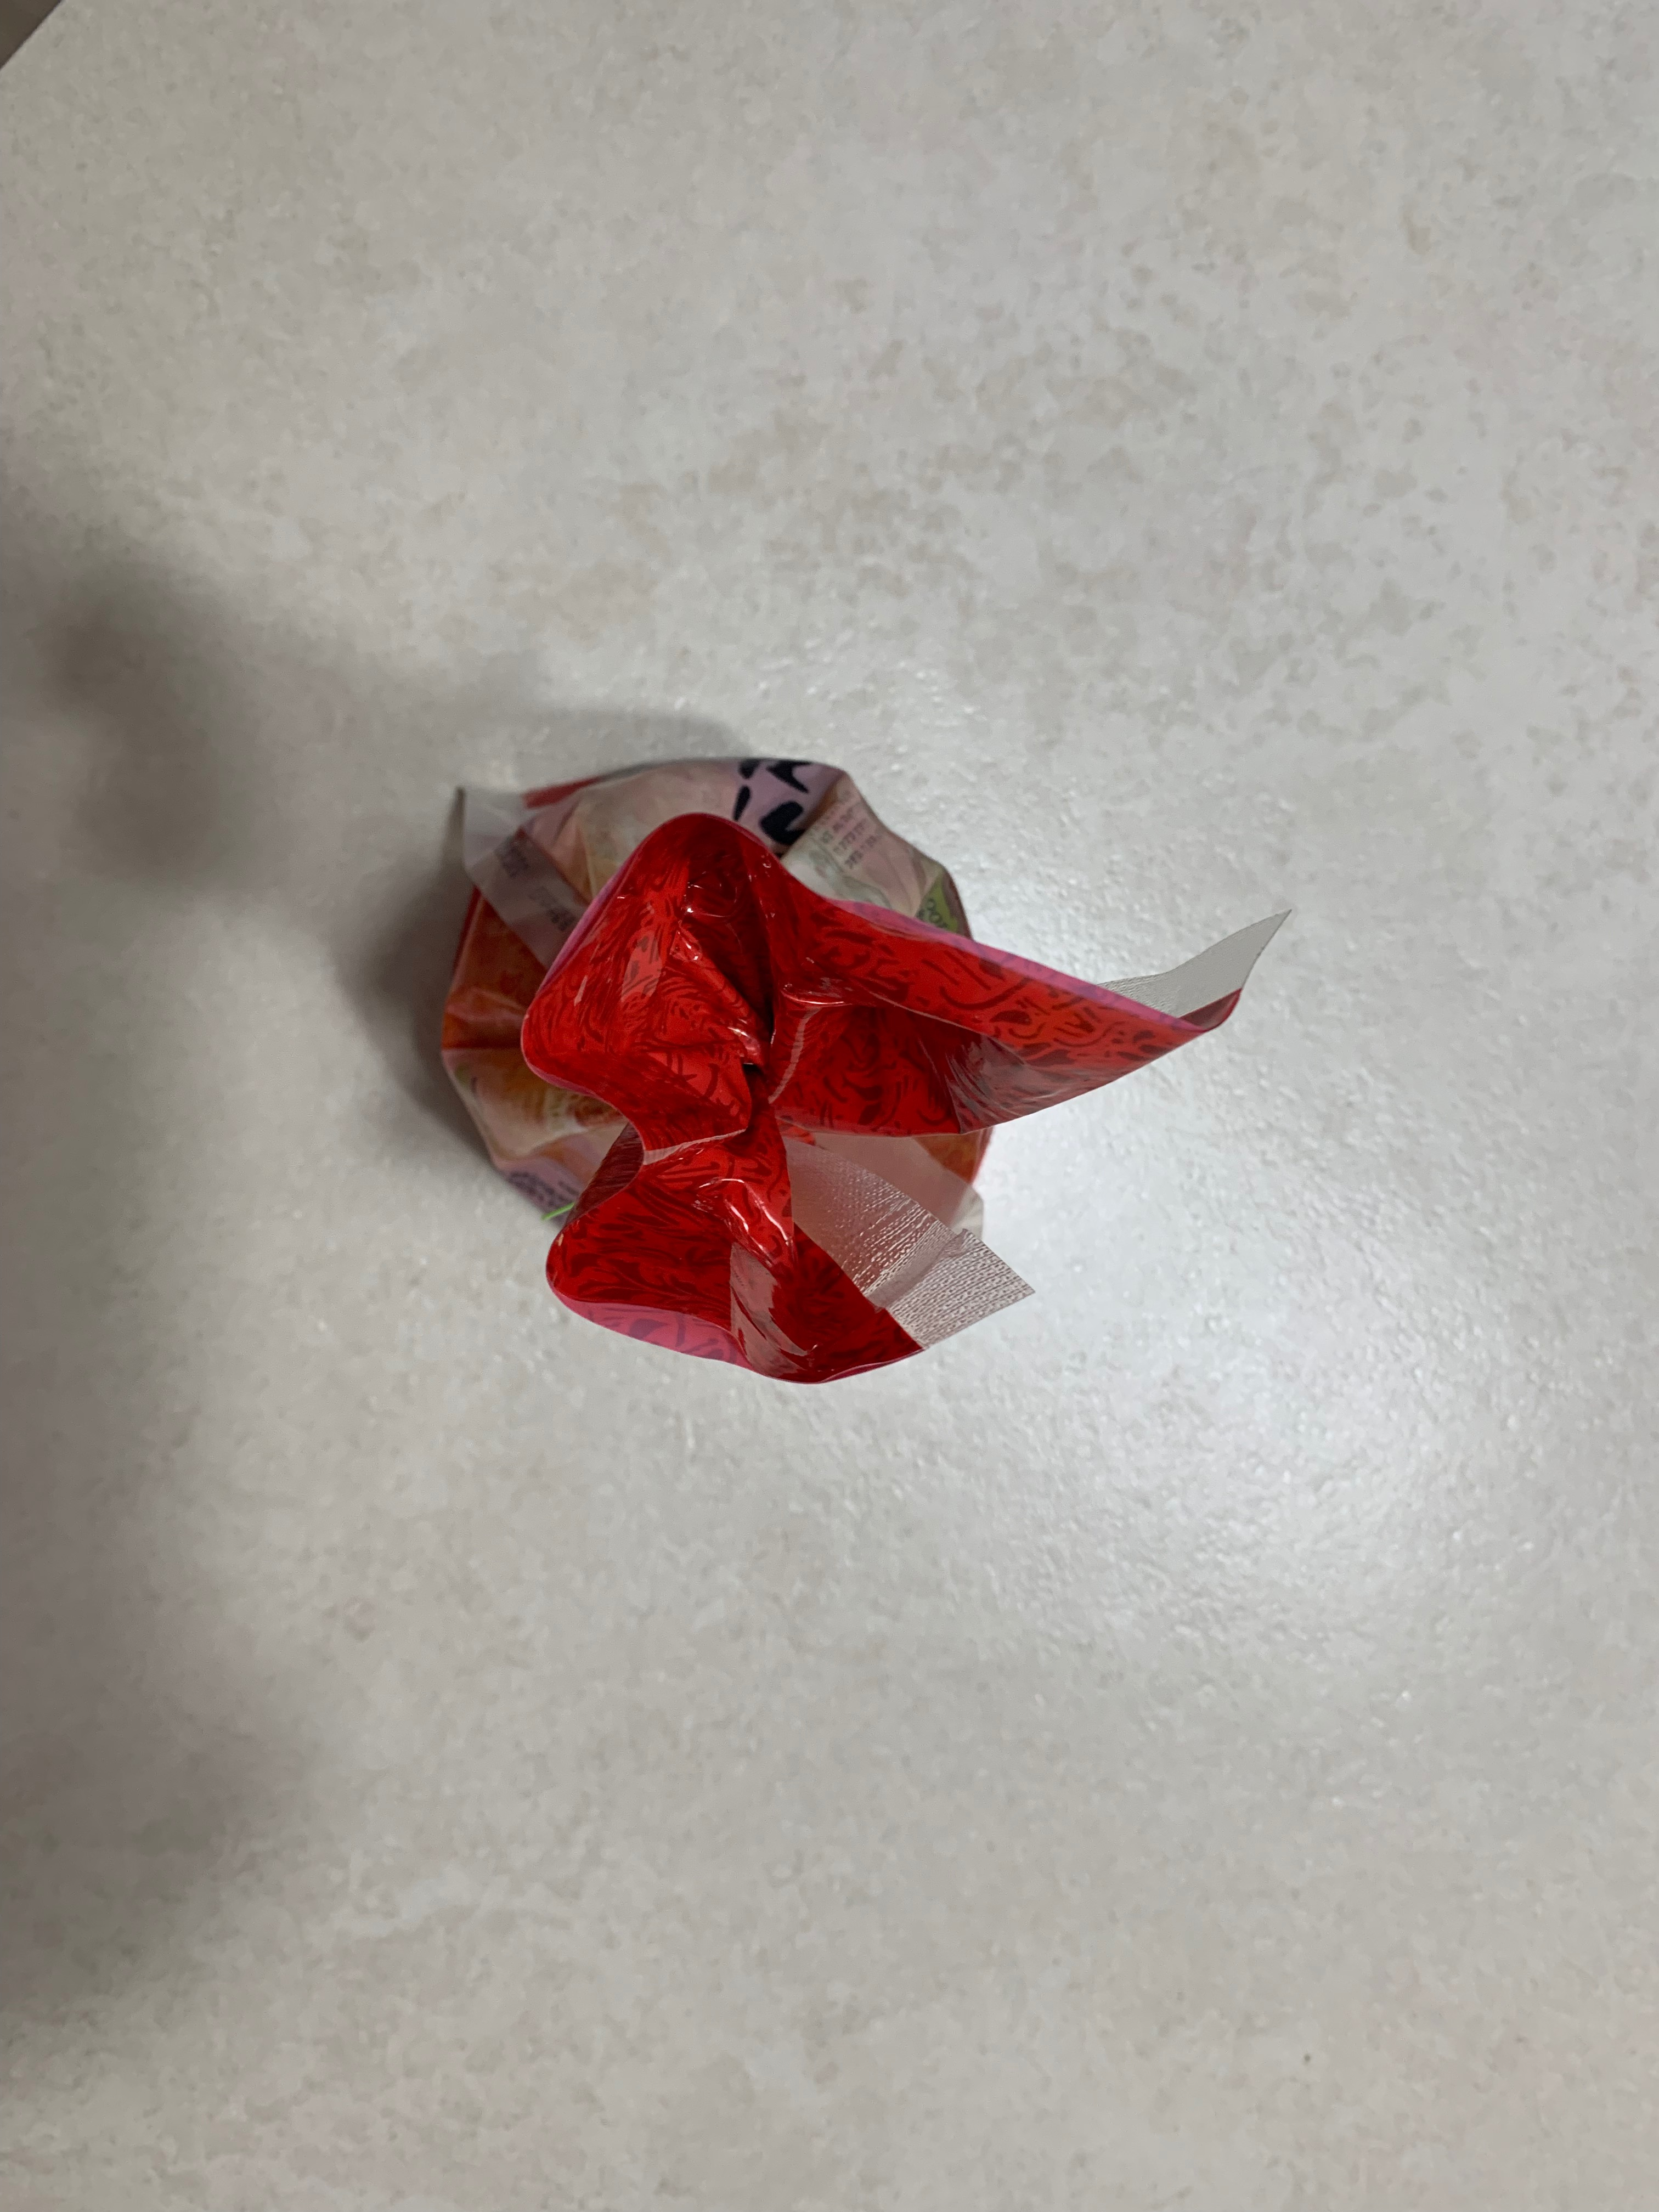kimchi: (420, 752, 1239, 1379)
